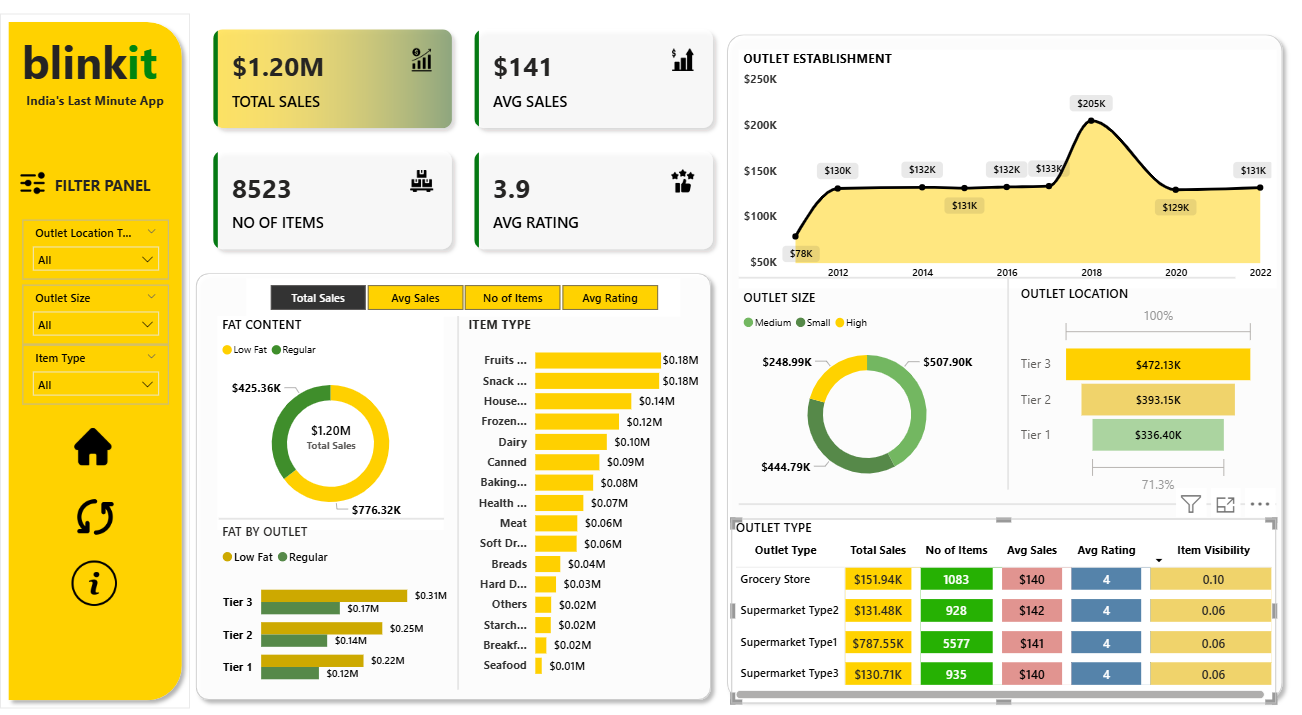

Layout of this report page (visuals, bound fields, positions):
{"tool":"powerbi","page":{"name":"Page 1","canvas":[1400,800],"ordinal":0},"visuals":[{"type":"shape","box":[0,24,204.1,745.9],"z":0},{"type":"textbox","box":[0,37.5,178.6,94.6],"z":1000},{"type":"textbox","box":[0,103.6,204.1,55.5],"z":2000},{"type":"cardVisual","fields":{"Data":["BlinkIT Grocery Data.Total Sales","BlinkIT Grocery Data.Avg Sales","BlinkIT Grocery Data.No of Items","BlinkIT Grocery Data.Avg Rating"]},"box":[211.6,24,570.3,270.2],"z":3000},{"type":"shape","box":[201.1,294.2,570.3,475.8],"z":4000},{"type":"donutChart","title":"FAT CONTENT","fields":{"Y":["BlinkIT Grocery Data.Total Sales"],"Category":["BlinkIT Grocery Data.Item Fat Content"]},"box":[233.2,348.5,242.6,229.2],"z":5000},{"type":"slicer","fields":{"Values":["Metrics.Metrics"]},"box":[264.2,307.7,465.3,40.5],"z":6000},{"type":"cardVisual","fields":{"Data":["BlinkIT Grocery Data.Total Sales"]},"box":[289.5,431.6,131.4,92.5],"z":7000},{"type":"clusteredBarChart","title":"FAT BY OUTLET","fields":{"Y":["BlinkIT Grocery Data.Total Sales"],"Category":["BlinkIT Grocery Data.Outlet Location Type"],"Series":["BlinkIT Grocery Data.Item Fat Content"]},"box":[233.2,569.7,252,189],"z":8000},{"type":"shape","box":[234.1,550.8,241.6,30],"z":9000},{"type":"shape","box":[484.8,348.2,12,400.7],"z":10000},{"type":"barChart","title":"ITEM TYPE","fields":{"Y":["BlinkIT Grocery Data.Total Sales"],"Category":["BlinkIT Grocery Data.Item Type"]},"box":[497.3,348.5,257.4,398.1],"z":11000},{"type":"shape","box":[770.8,37.5,613.9,731.9],"z":12000},{"type":"lineChart","title":"OUTLET ESTABLISHMENT","fields":{"Y":["BlinkIT Grocery Data.Total Sales"],"Category":["BlinkIT Grocery Data.Outlet Establishment Year"]},"box":[792.2,63,576.4,256],"z":13000},{"type":"shape","box":[792.5,277.7,532.8,60],"z":15000},{"type":"donutChart","title":"OUTLET SIZE","fields":{"Y":["BlinkIT Grocery Data.Total Sales"],"Category":["BlinkIT Grocery Data.Outlet Size"]},"box":[792.5,319.7,275,225],"z":15001},{"type":"shape","box":[1072.4,308.3,17.4,226.5],"z":15002},{"type":"funnel","title":"OUTLET LOCATION","fields":{"Y":["BlinkIT Grocery Data.Total Sales"],"Category":["BlinkIT Grocery Data.Outlet Location Type"]},"box":[1089.8,315,261.4,229.2],"z":15003},{"type":"shape","box":[792.2,534.9,576.4,30.8],"z":15004},{"type":"pivotTable","title":"OUTLET TYPE","fields":{"Values":["BlinkIT Grocery Data.Total Sales","BlinkIT Grocery Data.No of Items","BlinkIT Grocery Data.Avg Sales","BlinkIT Grocery Data.Avg Rating","Avg(BlinkIT Grocery Data.Item Visibility)"],"Rows":["BlinkIT Grocery Data.Outlet Type"]},"box":[784.2,565.7,584.5,198.4],"z":15005},{"type":"slicer","fields":{"Values":["BlinkIT Grocery Data.Outlet Location Type"]},"box":[21.4,296.2,156.8,64.3],"z":15006},{"type":"slicer","fields":{"Values":["BlinkIT Grocery Data.Outlet Size"]},"box":[21.4,375.3,156.8,64.3],"z":15007},{"type":"slicer","fields":{"Values":["BlinkIT Grocery Data.Item Type"]},"box":[21.4,454.4,156.8,64.3],"z":15008}]}

Visuals, with their boxes on the page's 1400x800 design canvas (x1, y1, x2, y2). These are canvas units, not pixel positions in the 1302x715 screenshot, which may show the page scaled, cropped or inside an application window:
shape: left=0, top=24, right=204, bottom=770
textbox: left=0, top=38, right=179, bottom=132
textbox: left=0, top=104, right=204, bottom=159
cardVisual - BlinkIT Grocery Data.Total Sales x BlinkIT Grocery Data.Avg Sales: left=212, top=24, right=782, bottom=294
shape: left=201, top=294, right=771, bottom=770
"FAT CONTENT" donutChart: left=233, top=348, right=476, bottom=578
slicer - Metrics.Metrics: left=264, top=308, right=730, bottom=348
cardVisual - BlinkIT Grocery Data.Total Sales: left=290, top=432, right=421, bottom=524
"FAT BY OUTLET" clusteredBarChart: left=233, top=570, right=485, bottom=759
shape: left=234, top=551, right=476, bottom=581
shape: left=485, top=348, right=497, bottom=749
"ITEM TYPE" barChart: left=497, top=348, right=755, bottom=747
shape: left=771, top=38, right=1385, bottom=769
"OUTLET ESTABLISHMENT" lineChart: left=792, top=63, right=1369, bottom=319
shape: left=792, top=278, right=1325, bottom=338
"OUTLET SIZE" donutChart: left=792, top=320, right=1068, bottom=545
shape: left=1072, top=308, right=1090, bottom=535
"OUTLET LOCATION" funnel: left=1090, top=315, right=1351, bottom=544
shape: left=792, top=535, right=1369, bottom=566
"OUTLET TYPE" pivotTable: left=784, top=566, right=1369, bottom=764
slicer - BlinkIT Grocery Data.Outlet Location Type: left=21, top=296, right=178, bottom=360
slicer - BlinkIT Grocery Data.Outlet Size: left=21, top=375, right=178, bottom=440
slicer - BlinkIT Grocery Data.Item Type: left=21, top=454, right=178, bottom=519
